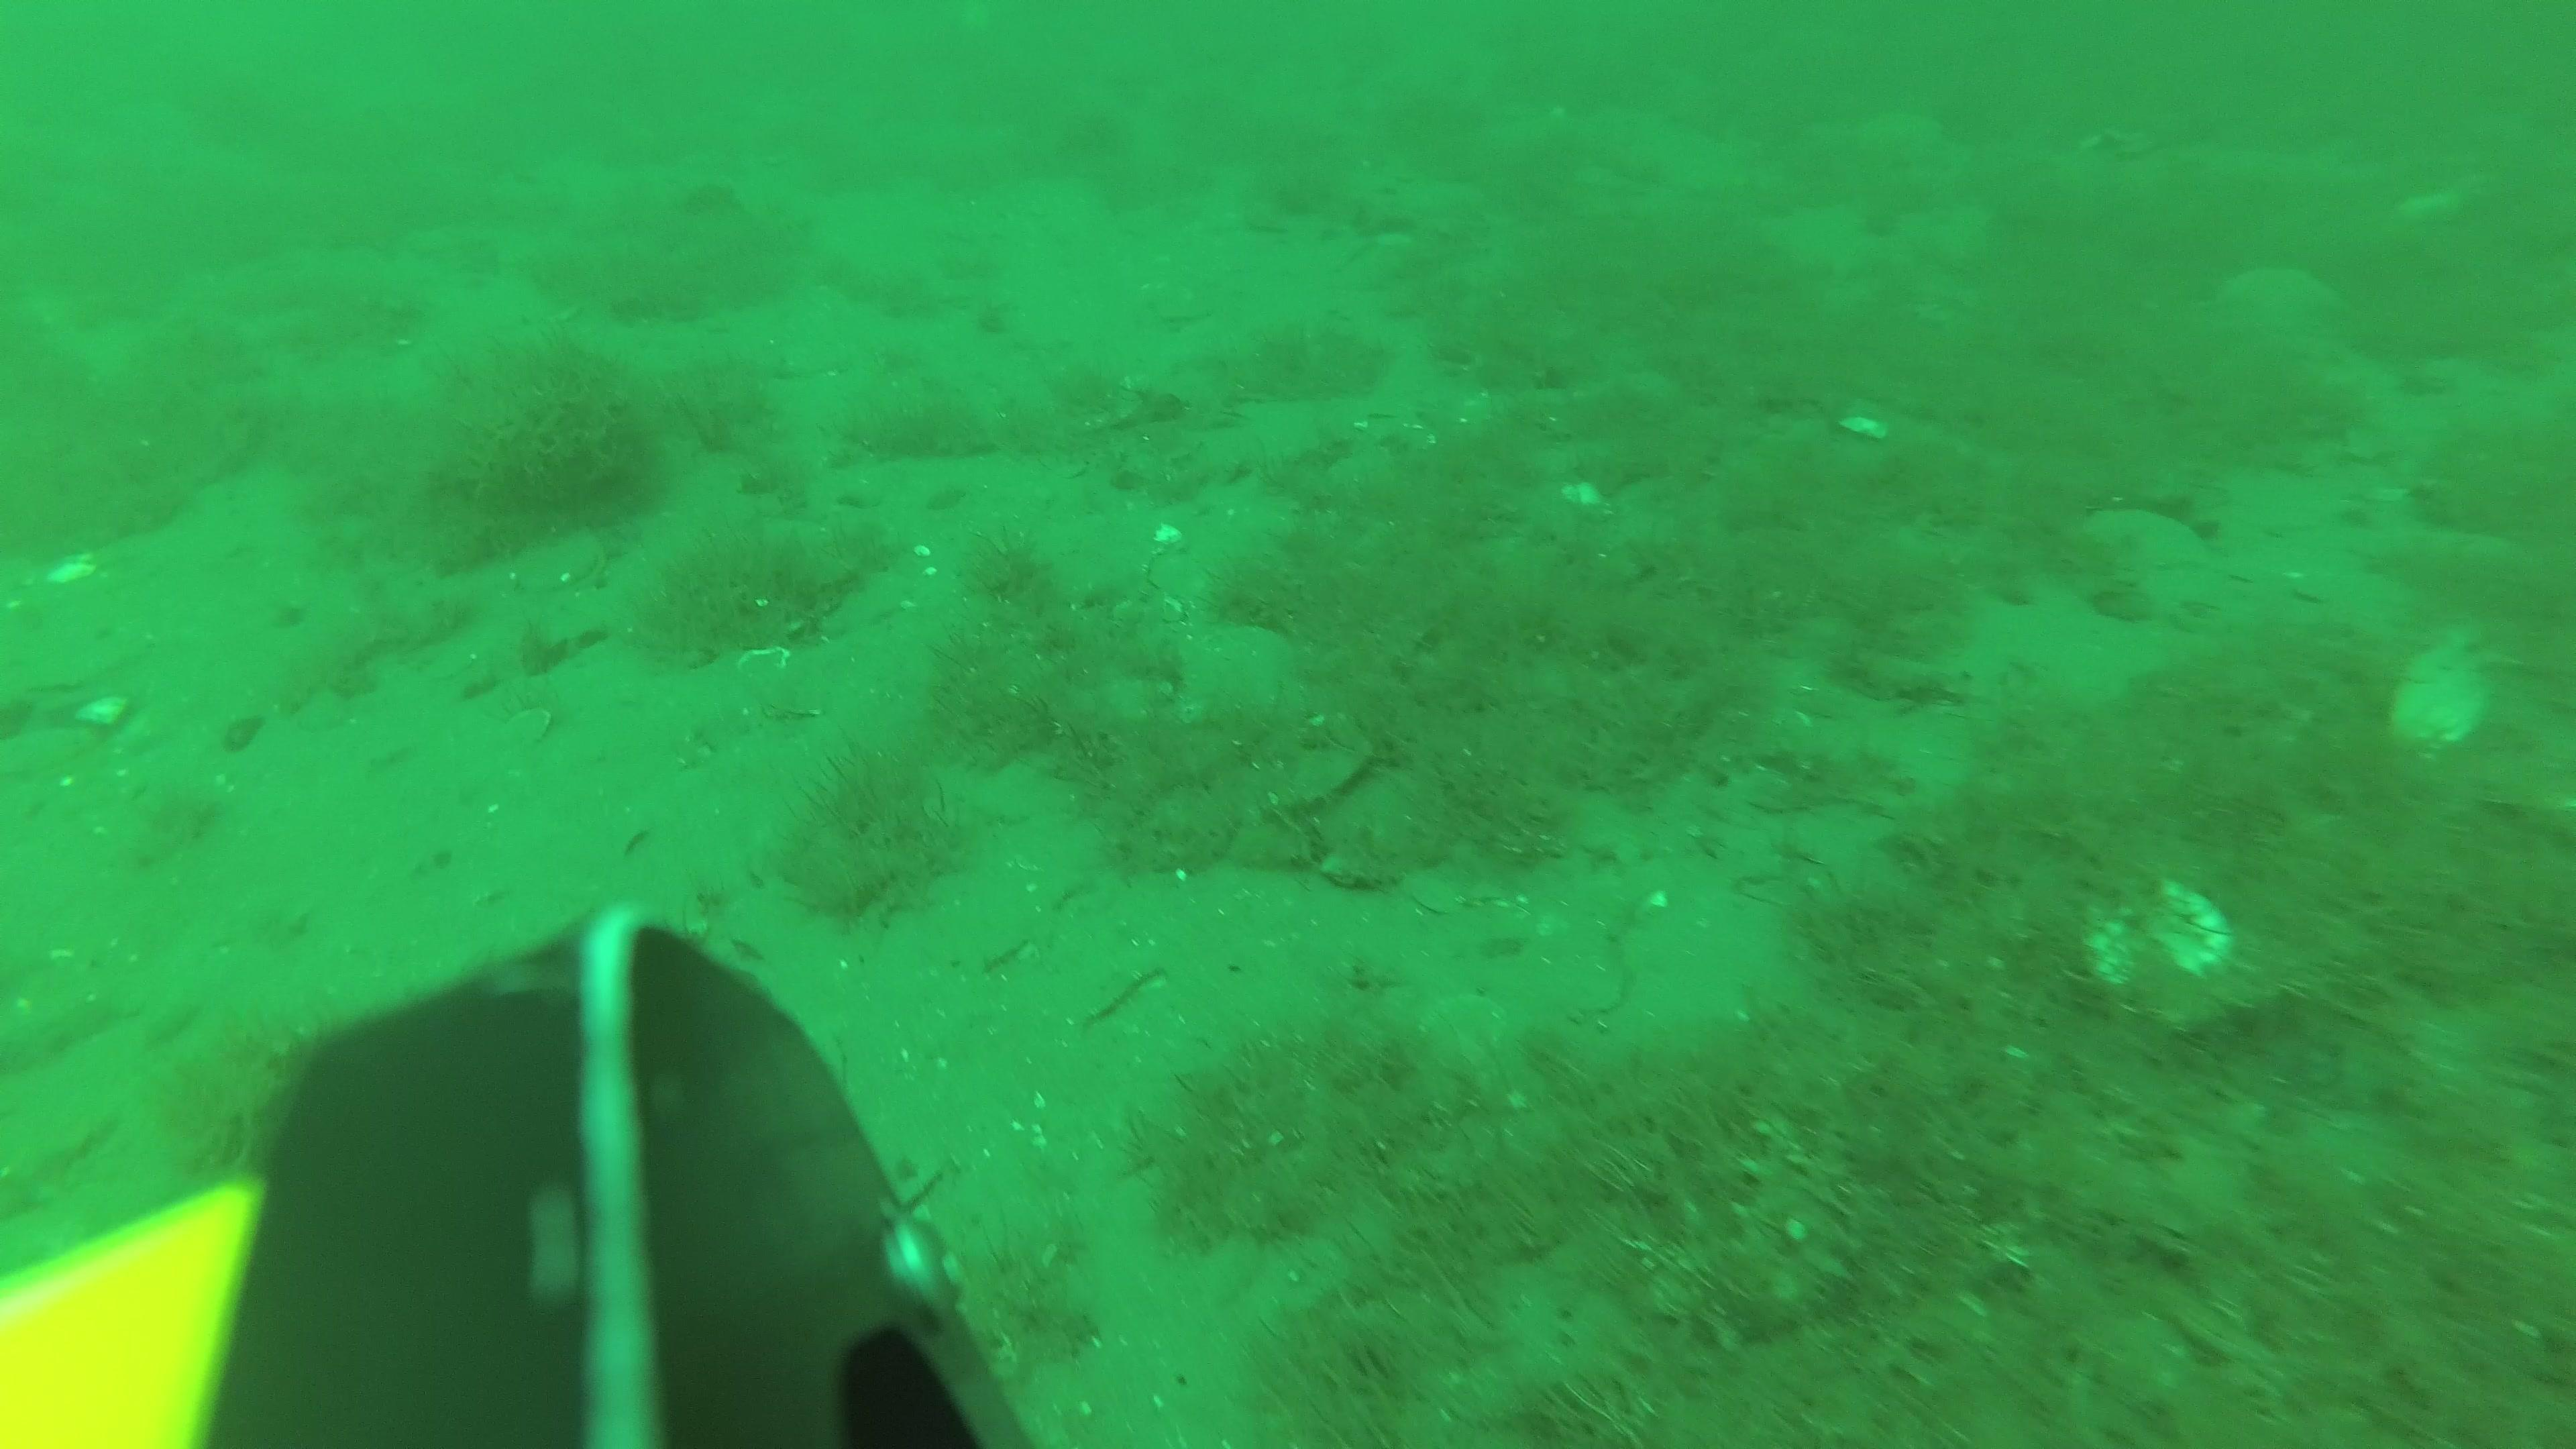scallop: (2093, 869, 2236, 1024), (2397, 639, 2491, 763), (2086, 502, 2204, 573), (513, 527, 609, 596), (741, 642, 789, 686)
starfish: (2220, 264, 2351, 331)
